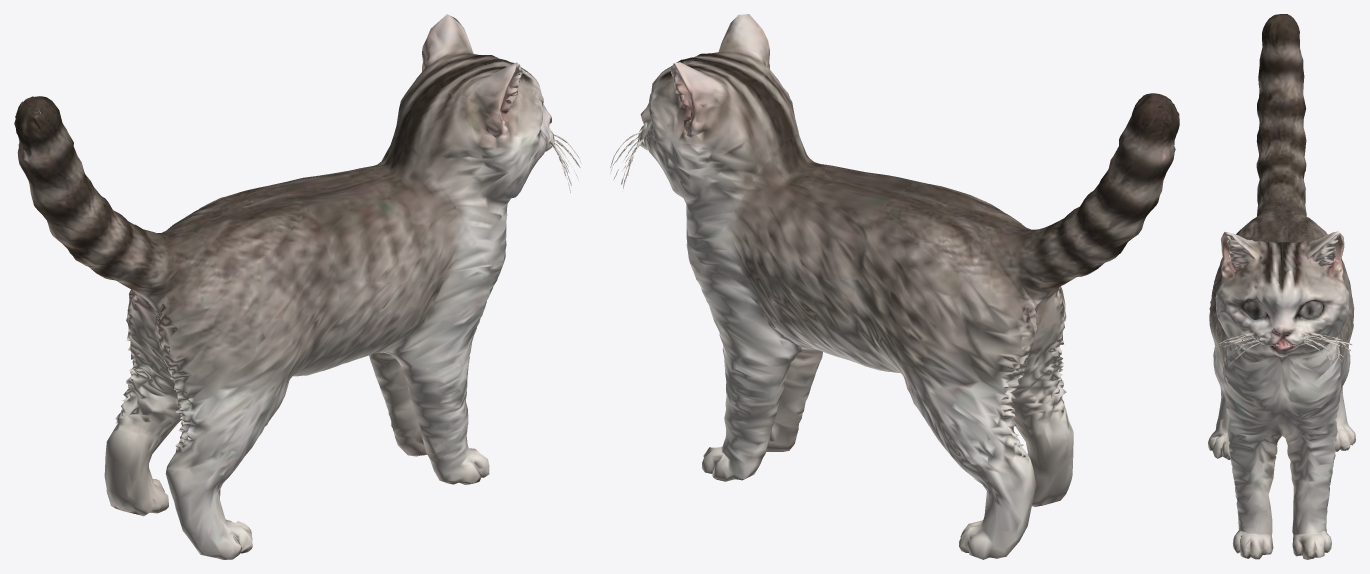
The model's file is NYAZCATS-lo.glb.
3 renders of one model, left to right at view 1: azimuth 30°, elevation 25°; view 2: azimuth 150°, elevation 25°; view 3: azimuth 270°, elevation 25°, orthographic. The views are drawn at different scales.
Visible parts, largest first — view 1: tripo_node_7ea8e7d7-21b1-432a-8deb-6d2066e447f9; view 2: tripo_node_7ea8e7d7-21b1-432a-8deb-6d2066e447f9; view 3: tripo_node_7ea8e7d7-21b1-432a-8deb-6d2066e447f9.
Part boxes in pixels (x1,y1,x2,y2): tripo_node_7ea8e7d7-21b1-432a-8deb-6d2066e447f9: (14,14,581,559); tripo_node_7ea8e7d7-21b1-432a-8deb-6d2066e447f9: (610,14,1179,559); tripo_node_7ea8e7d7-21b1-432a-8deb-6d2066e447f9: (1208,14,1355,559).
Size of the model in its own units: 1.2 by 0.9982 by 0.3549.
Materials: 1 (1 with a texture image).
